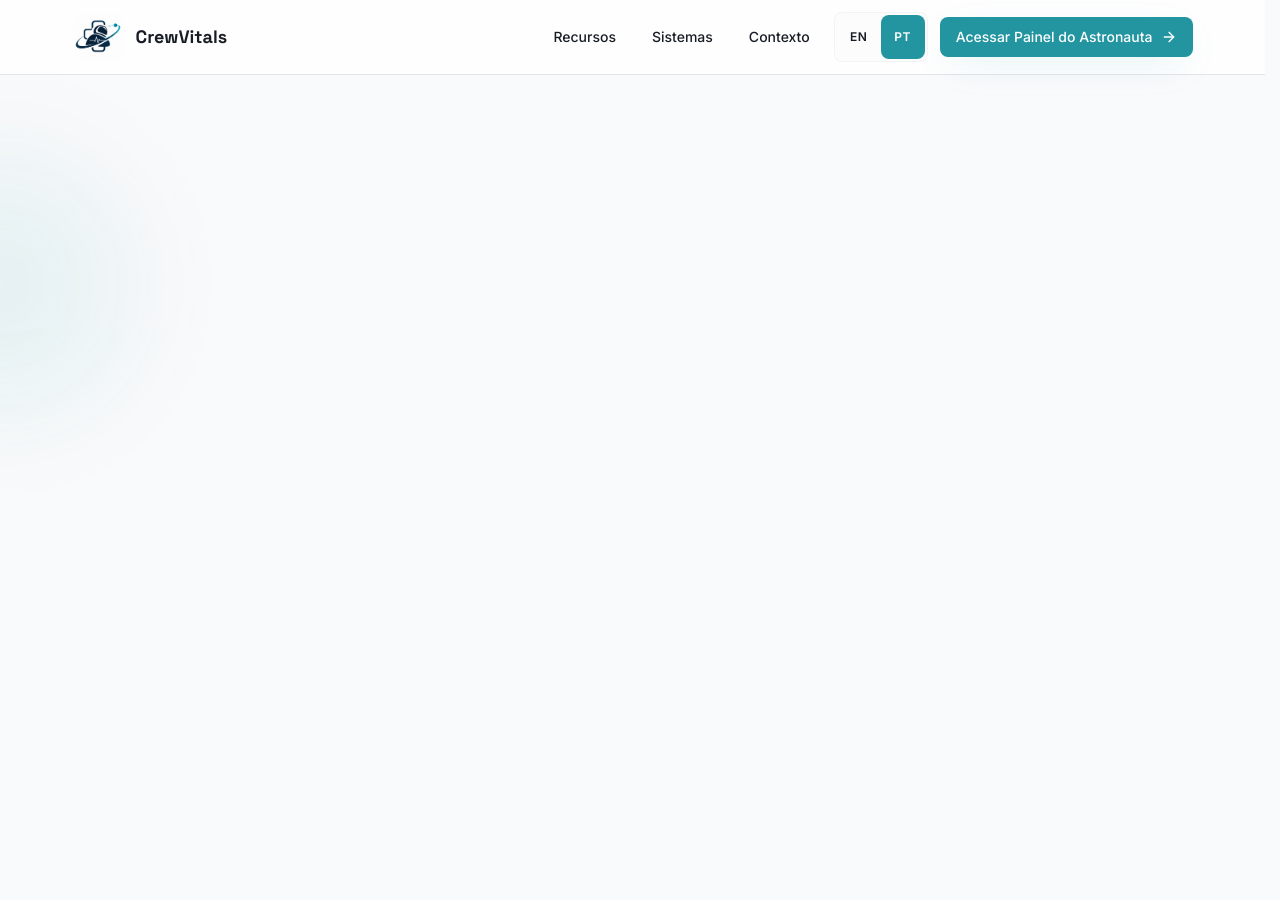
Test: Index page › i18n multilingual rendering › renders LanguageToggle in header and allows switching language
# click EN
Click the button "EN" at (859, 37), box x1=837 y1=15 x2=881 y2=59
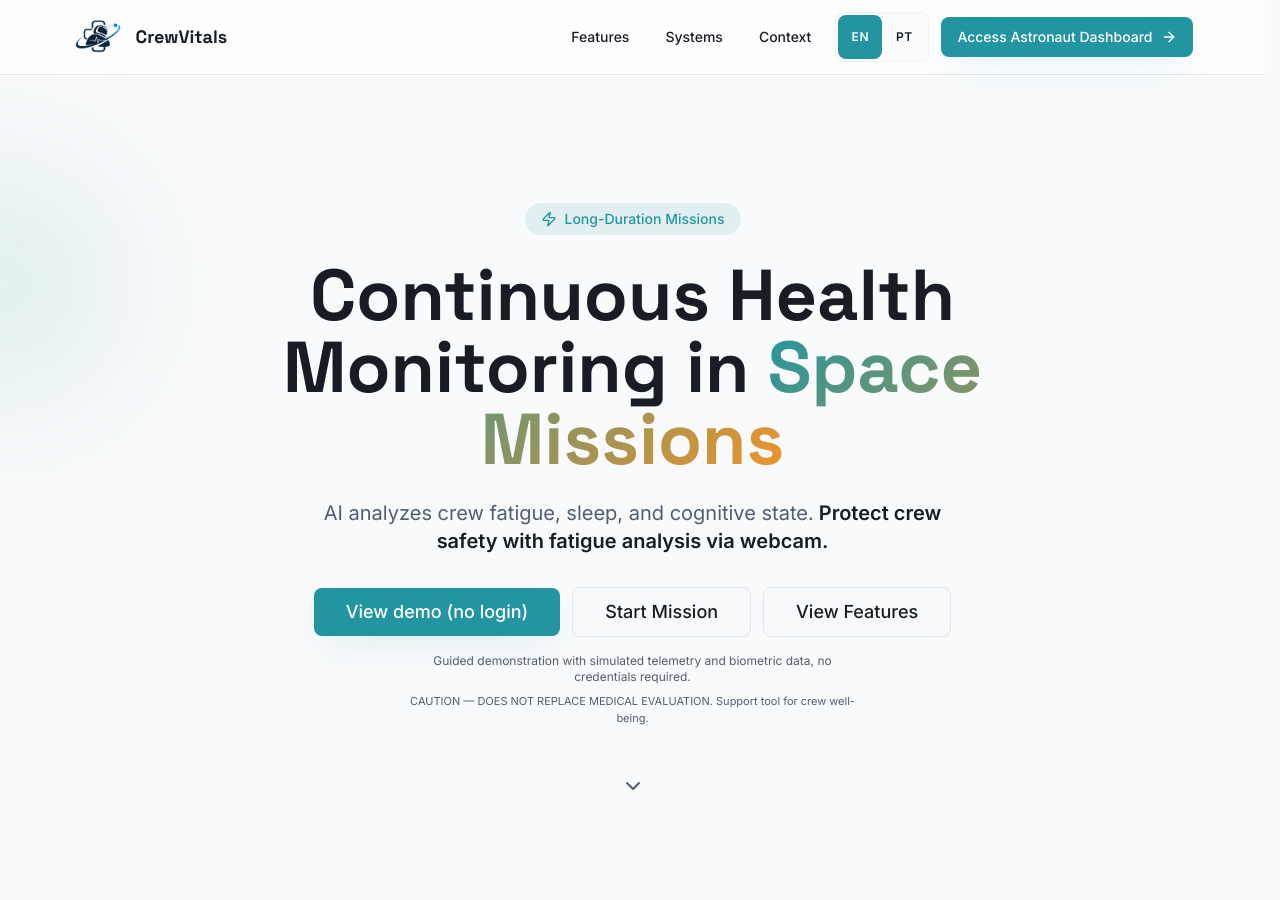
Expected: the link "View demo (no login)" is shown, x1=314 y1=588 x2=560 y2=636
